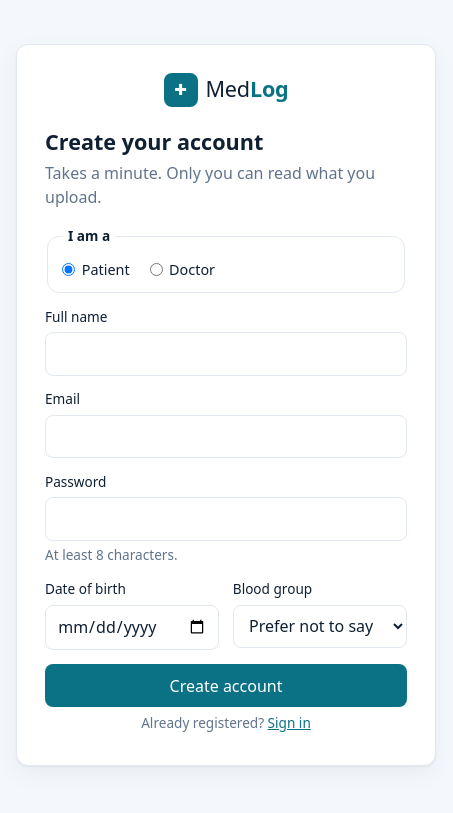
Scenario: RegisterPage › shows the message when the email is already taken
Type "Asha Rao" into the field labelled "Full name" at (226,354), box x1=45 y1=332 x2=407 y2=376
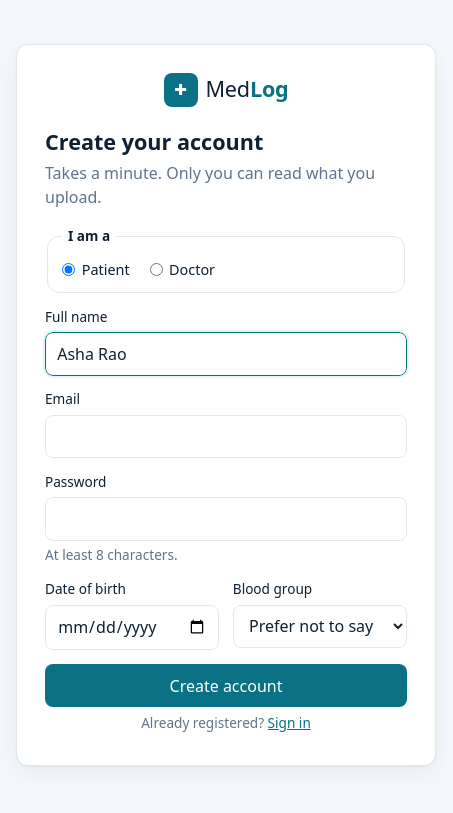
Type "asha.rao@medlog.test" into the field labelled "Email" at (226,436), box x1=45 y1=415 x2=407 y2=458
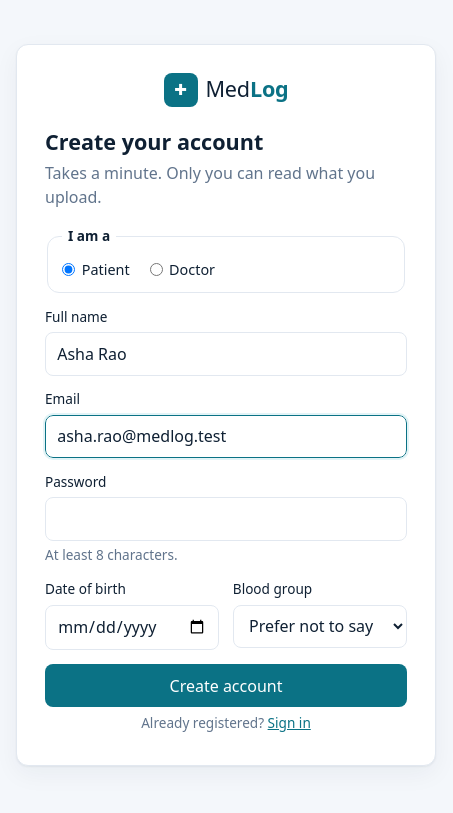
Type "Str0ngPass!" into the password field labelled "Password At least 8 characters." at (226,519), box x1=45 y1=497 x2=407 y2=541
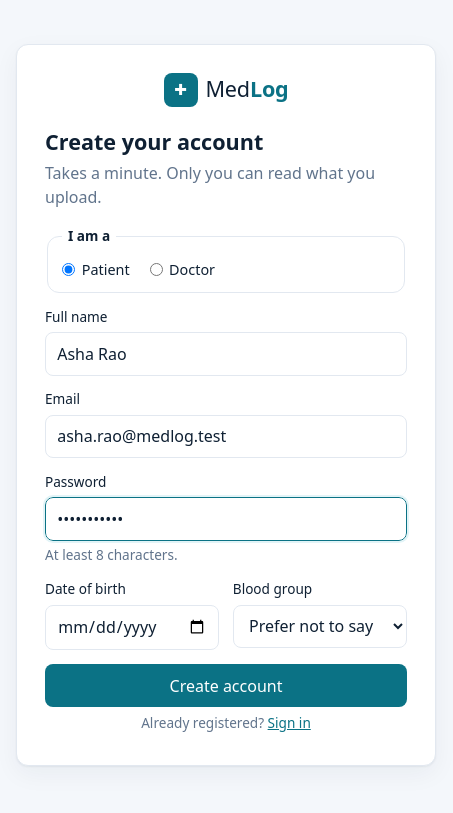
Click the button "Create account" at (226,686), box x1=45 y1=664 x2=407 y2=707
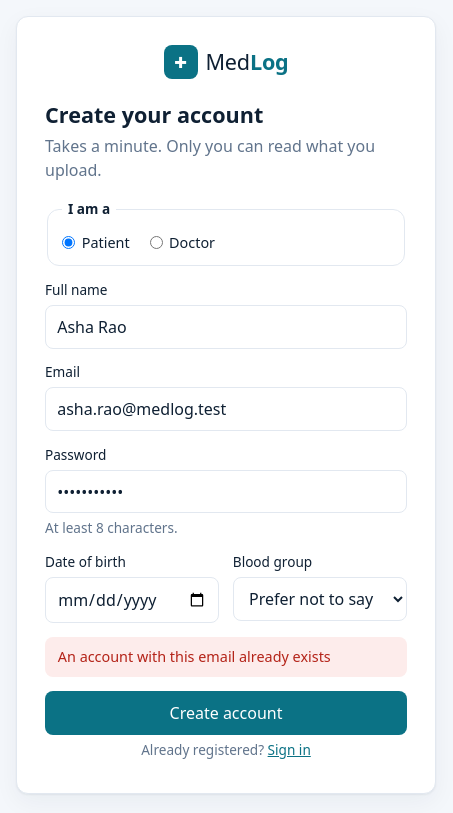
Check: the message shows "already exists", box x1=58 y1=647 x2=331 y2=666
